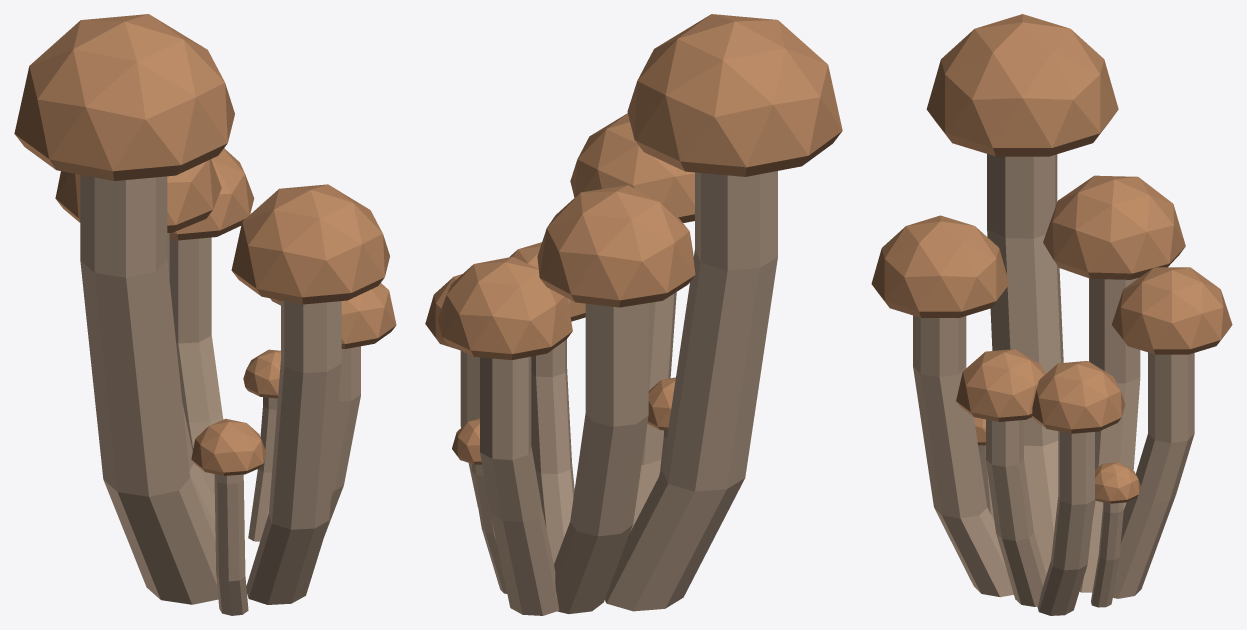
The model's file is Agaricales_bigFlipped.fbx.
The picture shows the model from 3 angles, left to right: view 1: azimuth 30°, elevation 25°; view 2: azimuth 150°, elevation 25°; view 3: azimuth 270°, elevation 25°; orthographic projection. The views are drawn at different scales.
Parts seen in each view (by area): view 1: Nozhka; view 2: Nozhka; view 3: Nozhka.
Boxes of the visible parts, left/top/right/bottom form: Nozhka: left=14, top=14, right=396, bottom=615; Nozhka: left=425, top=14, right=842, bottom=615; Nozhka: left=871, top=14, right=1232, bottom=615.
Bounding box in the file's own units: 76.55 × 120 × 75.86.
